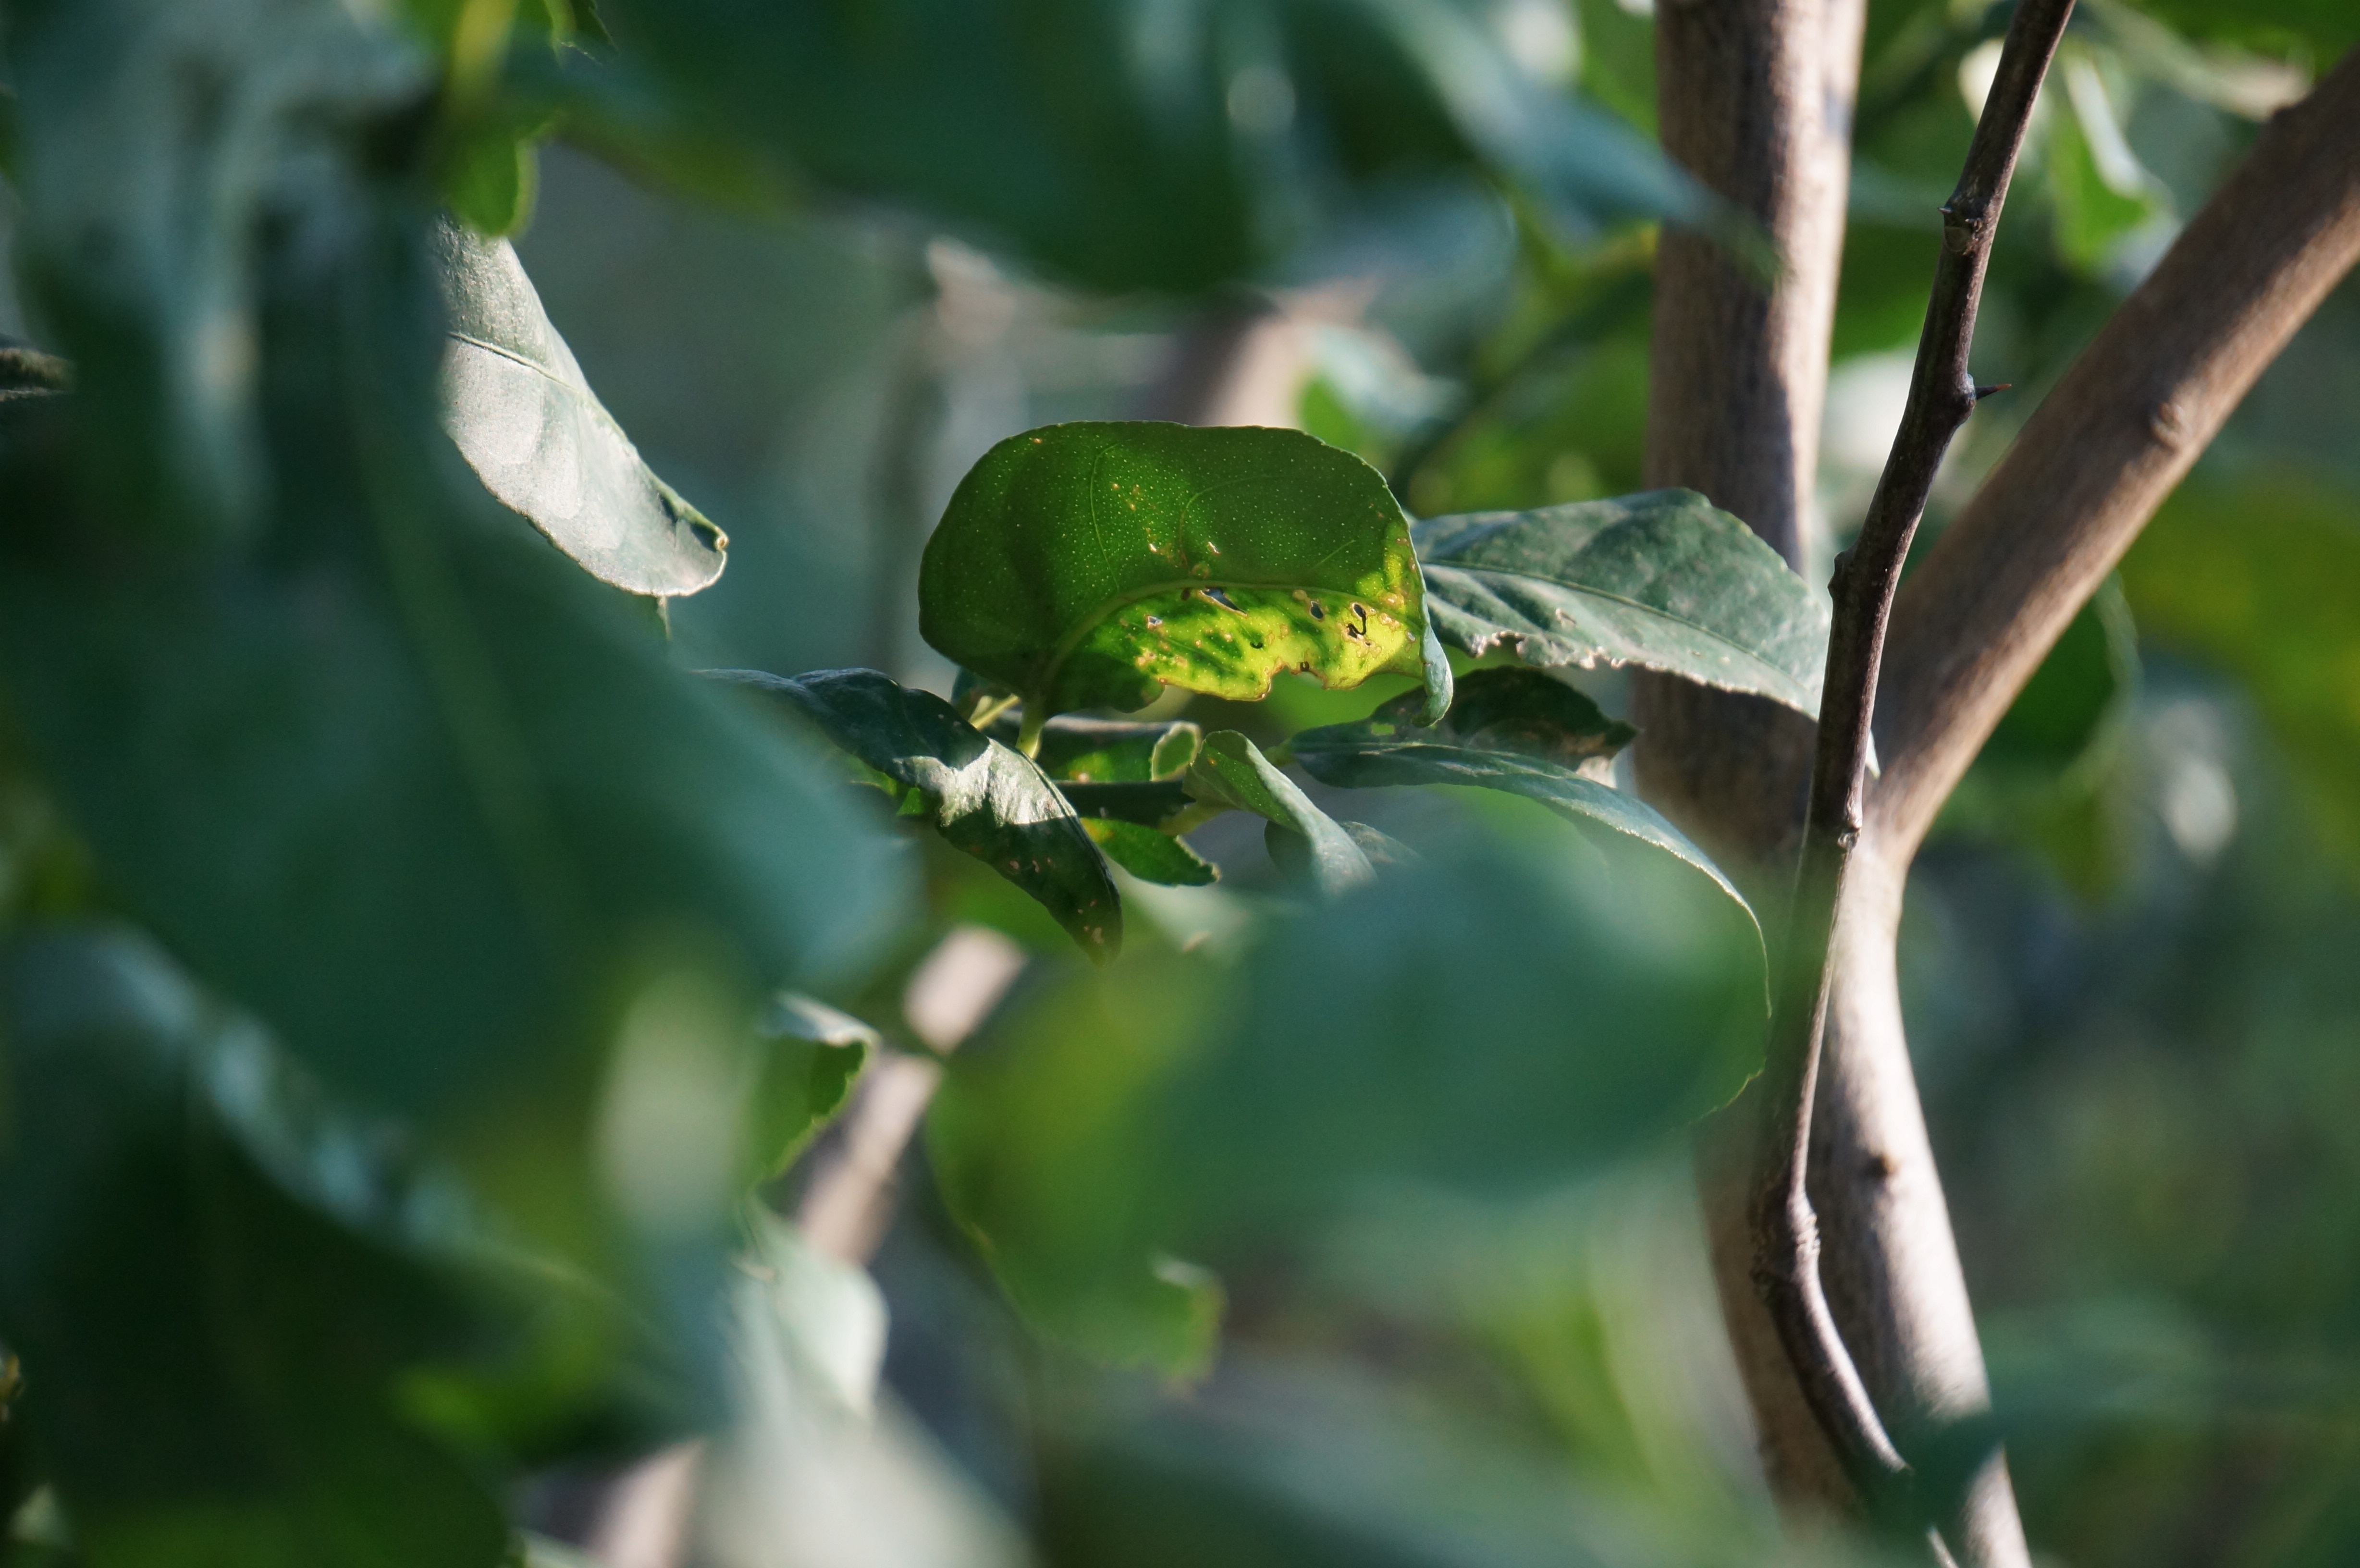damage: (1100, 507, 1470, 747)
